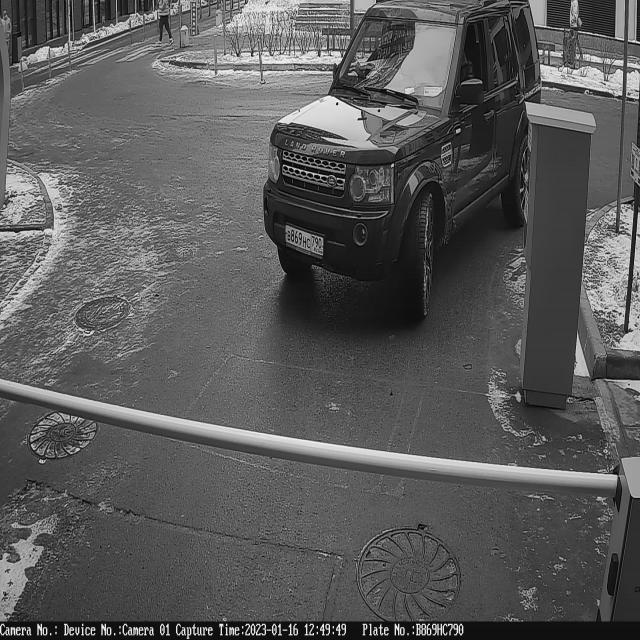car-plate-numbers: (284, 221, 327, 260)
